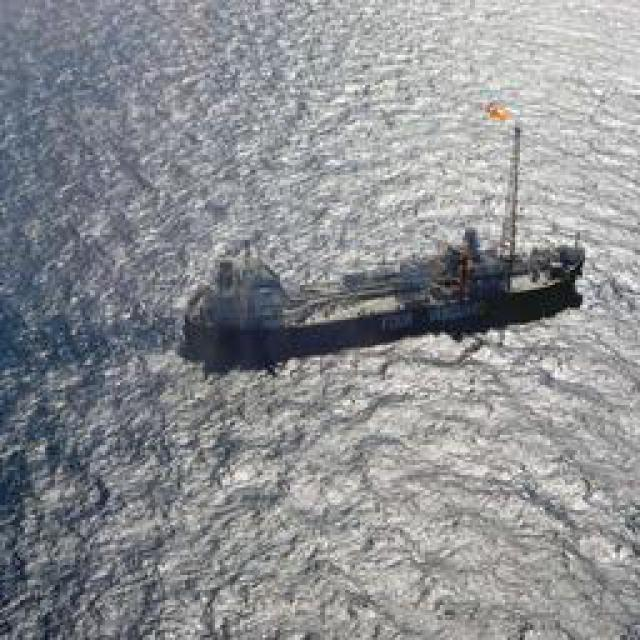Ship: (185, 235, 583, 365)
